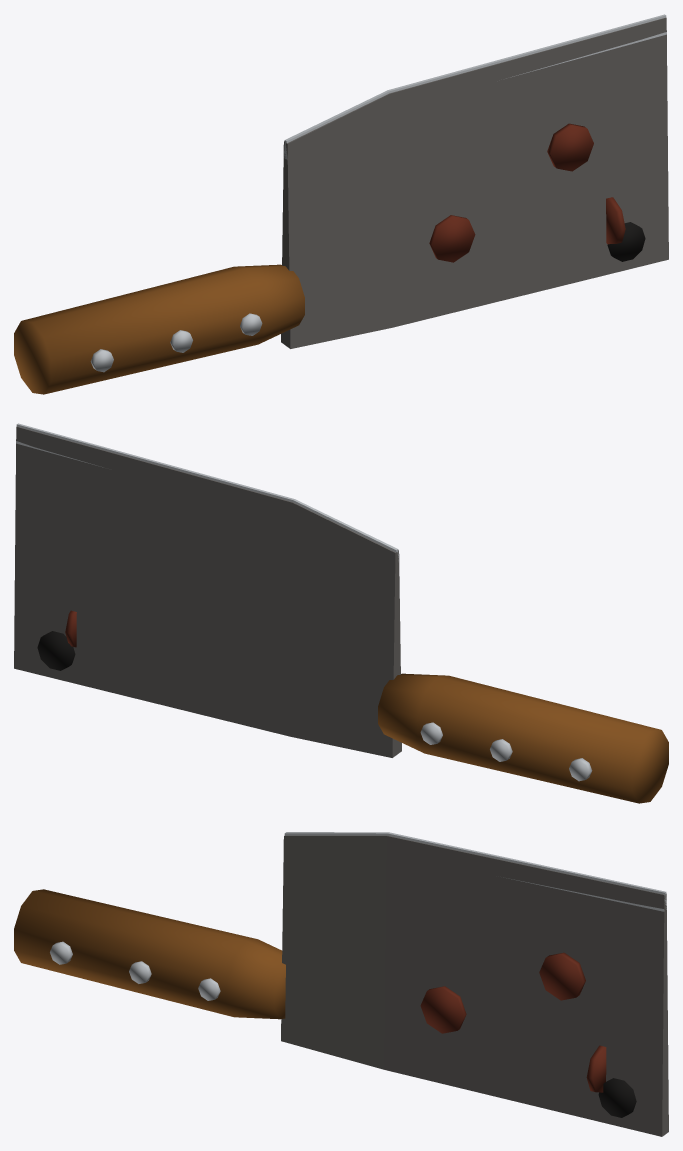
Rendered from item_cleaver.glb.
3 renders of one model, top to bottom at view 1: azimuth 30°, elevation 25°; view 2: azimuth 150°, elevation 25°; view 3: azimuth 330°, elevation 25°, orthographic.
Visible parts, largest first — view 1: blade, grip, edge, rust_1, rust_0, hole, rust_2; view 2: blade, grip, edge, hole; view 3: blade, grip, edge, rust_1, rust_0, hole, rust_2.
Boxes of the visible parts, left/top/right/bottom form: blade: left=281, top=17, right=668, bottom=348; grip: left=14, top=264, right=304, bottom=394; edge: left=284, top=14, right=666, bottom=159; rust_1: left=547, top=123, right=593, bottom=171; rust_0: left=429, top=215, right=475, bottom=262; hole: left=607, top=222, right=645, bottom=261; rust_2: left=606, top=197, right=625, bottom=244; blade: left=14, top=426, right=401, bottom=757; grip: left=378, top=673, right=668, bottom=803; edge: left=16, top=423, right=398, bottom=561; hole: left=37, top=631, right=75, bottom=670; blade: left=281, top=835, right=668, bottom=1136; grip: left=14, top=889, right=285, bottom=1019; edge: left=284, top=832, right=666, bottom=911; rust_1: left=539, top=952, right=585, bottom=1000; rust_0: left=420, top=986, right=466, bottom=1033; hole: left=598, top=1078, right=636, bottom=1117; rust_2: left=586, top=1045, right=606, bottom=1092.
Size of the model in its own units: 0.32 by 0.117 by 0.039.
